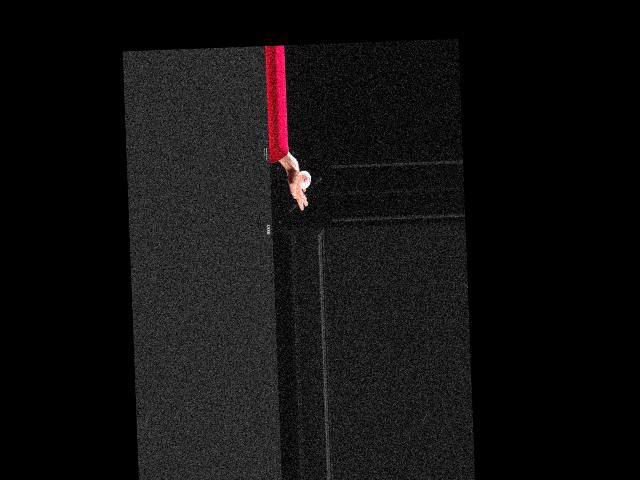egg: (298, 169, 311, 188)
